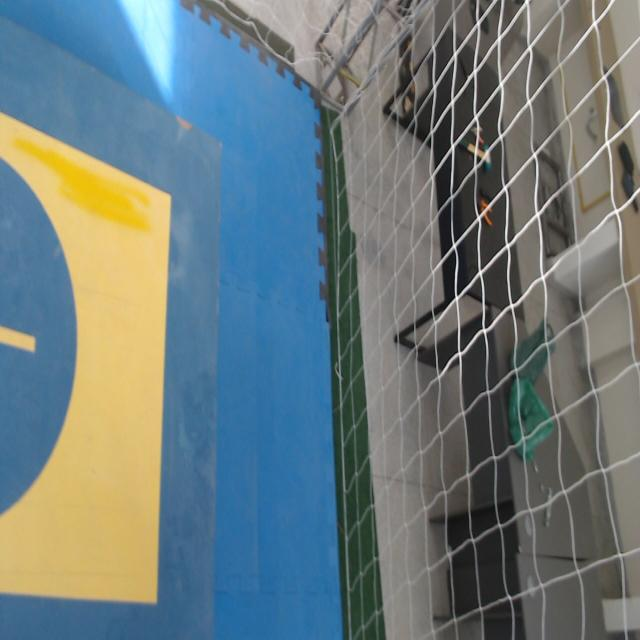base_inicio: (0, 112, 171, 607)
